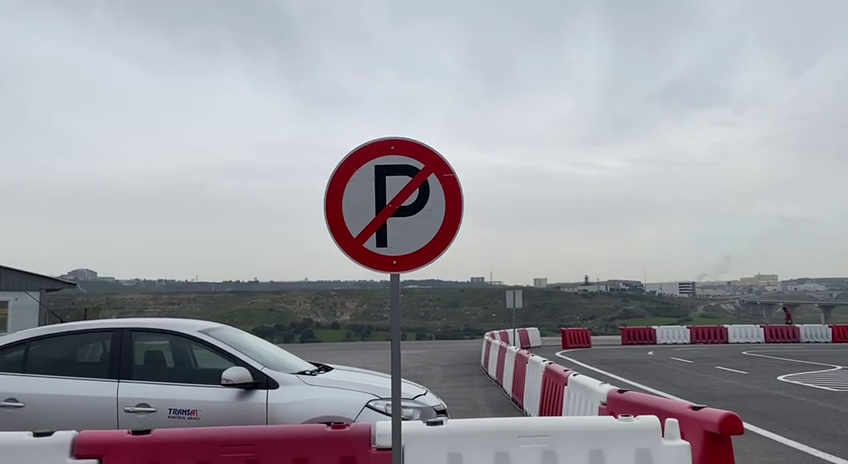noparking: (314, 129, 471, 283)
